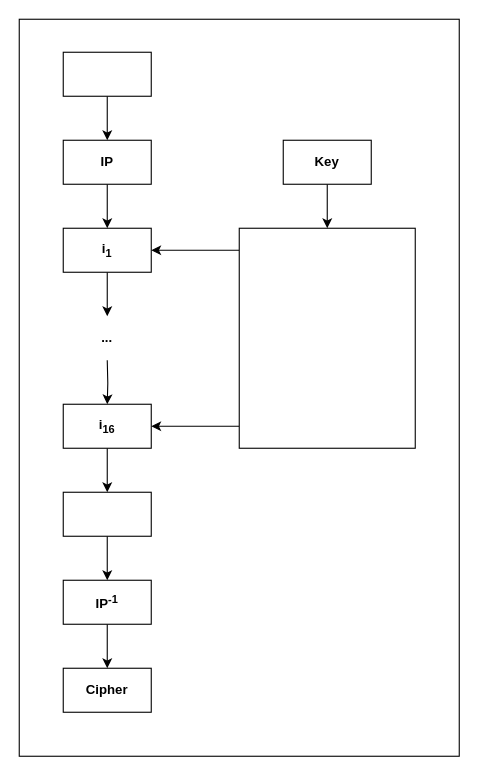
Image size: 479x776. Some labels were removed from this diagram. Each missing label, with the centre of its shape:
"key schedulation" goes at point 326,337.
"Plain" goes at point 106,73.
"Switch" goes at point 106,513.
